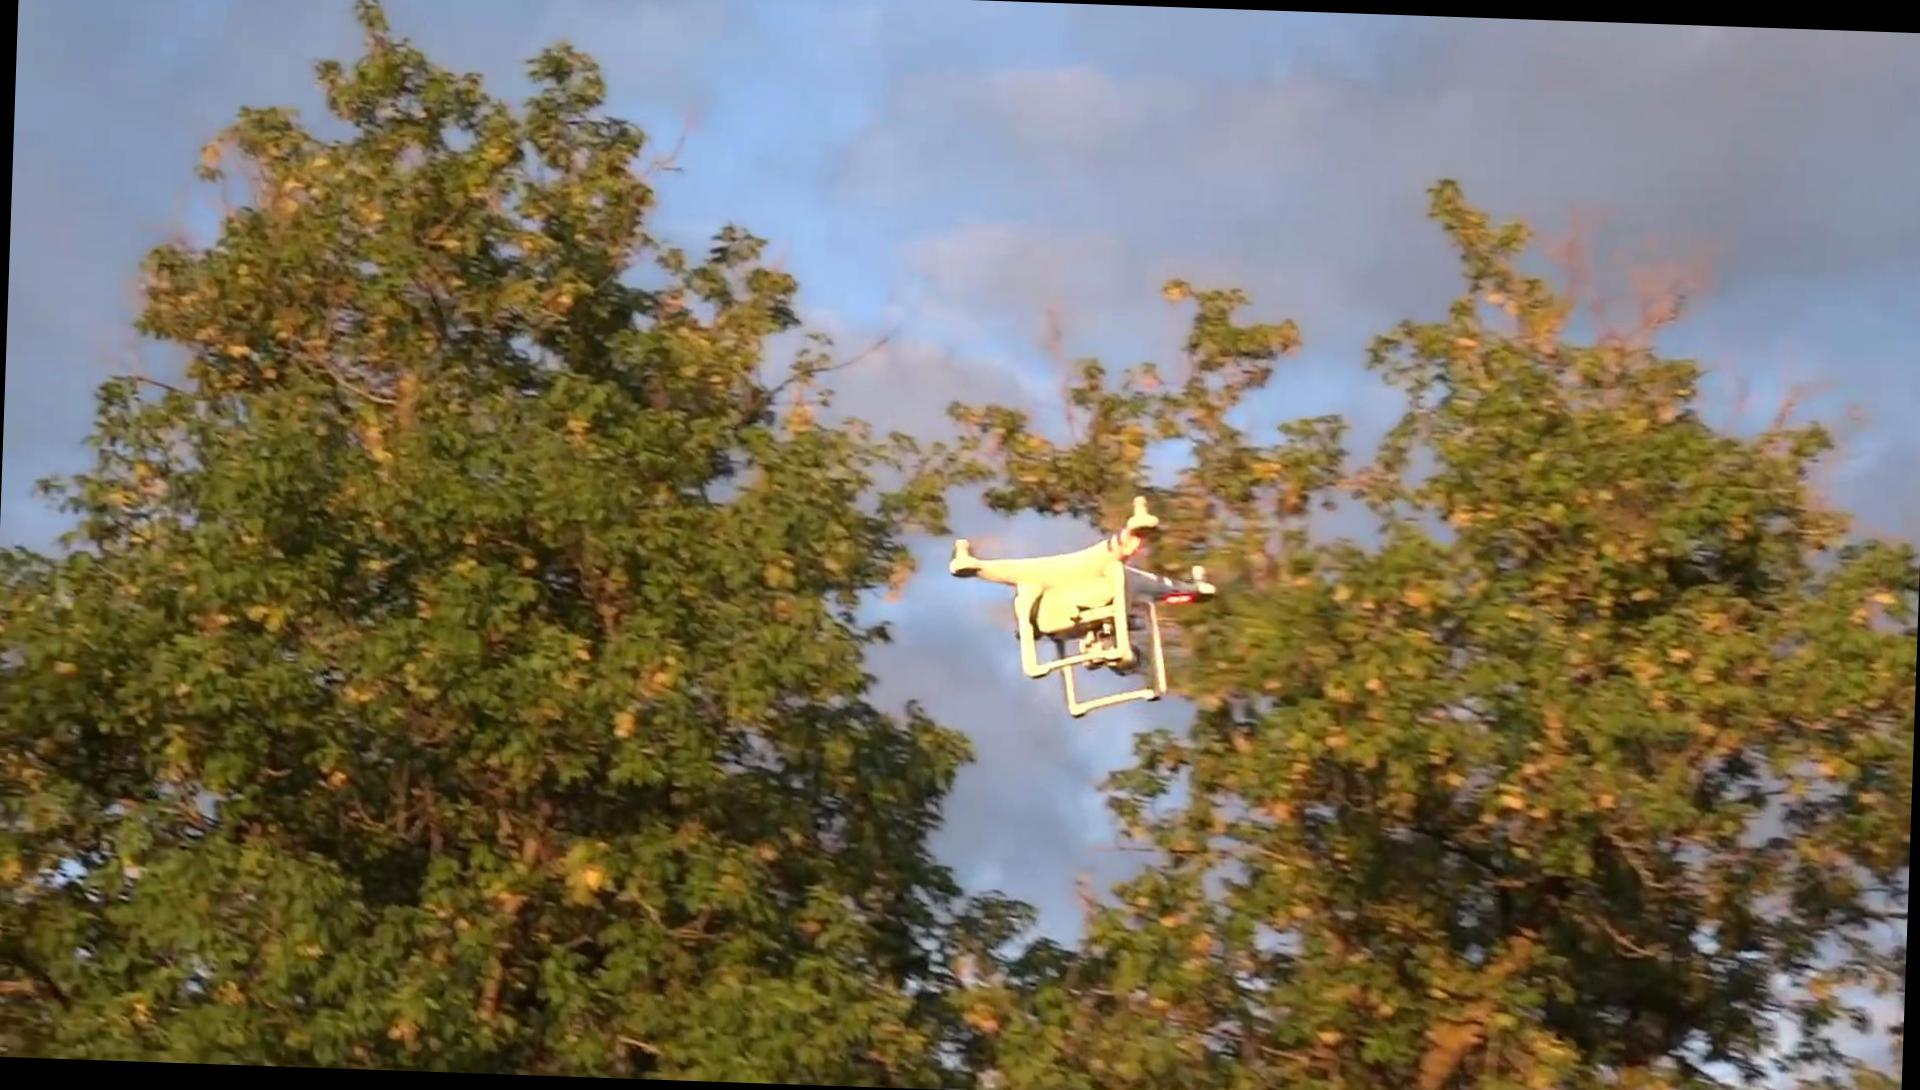drone: (934, 484, 1224, 724)
